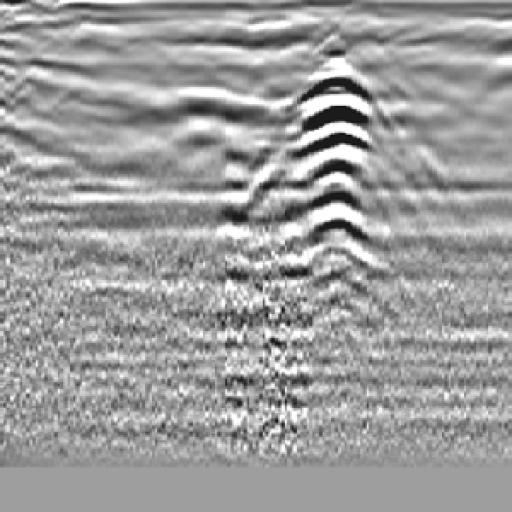metalic: (281, 41, 397, 288)
